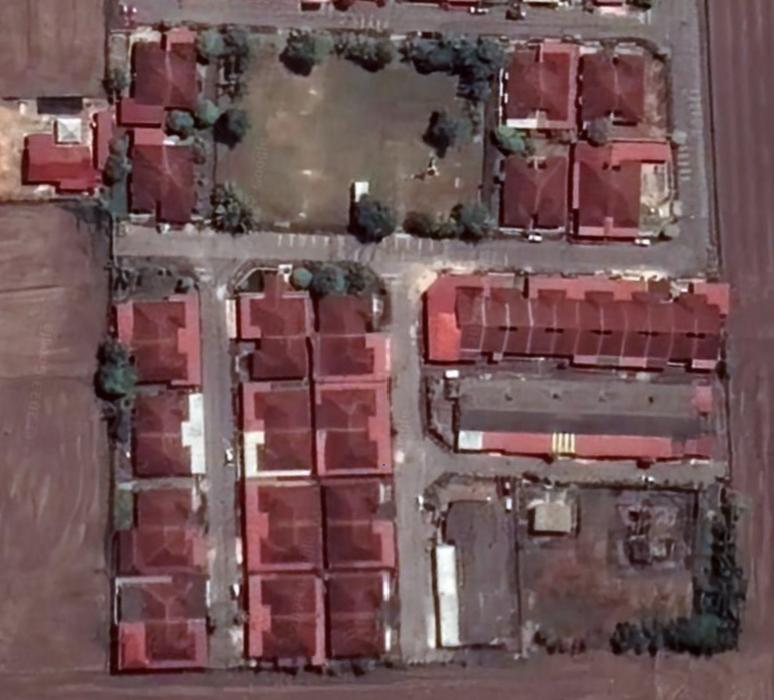building: (18, 128, 111, 197), (111, 35, 177, 132), (112, 528, 212, 577), (666, 379, 718, 467), (114, 623, 202, 671), (244, 269, 311, 332), (495, 147, 545, 231), (124, 138, 176, 218), (498, 46, 549, 123), (154, 139, 197, 227), (129, 386, 198, 440), (323, 570, 393, 623), (312, 383, 382, 435), (578, 48, 623, 126), (131, 482, 199, 533), (246, 332, 312, 384), (255, 518, 324, 567), (125, 297, 192, 346), (449, 374, 489, 456), (257, 612, 322, 662), (312, 291, 377, 341), (135, 577, 202, 625), (642, 374, 678, 463), (448, 282, 490, 358), (324, 480, 389, 529), (622, 372, 657, 462), (533, 150, 571, 232), (576, 156, 617, 231), (251, 428, 316, 475), (578, 372, 611, 462), (251, 386, 314, 432), (321, 525, 385, 569), (255, 480, 323, 521), (609, 154, 644, 233), (556, 369, 586, 461), (257, 574, 321, 617), (128, 441, 195, 482), (622, 287, 656, 367), (511, 372, 542, 459), (671, 287, 703, 369), (324, 622, 388, 663), (603, 373, 632, 463), (487, 374, 519, 455), (126, 347, 193, 385), (315, 340, 379, 379), (535, 369, 562, 458), (484, 281, 515, 357), (321, 436, 382, 474), (619, 49, 648, 128), (545, 46, 573, 125), (580, 285, 608, 363), (651, 291, 679, 369), (555, 285, 583, 362), (696, 289, 724, 366), (173, 38, 201, 114), (601, 289, 629, 365), (532, 283, 559, 360), (511, 283, 537, 361)
